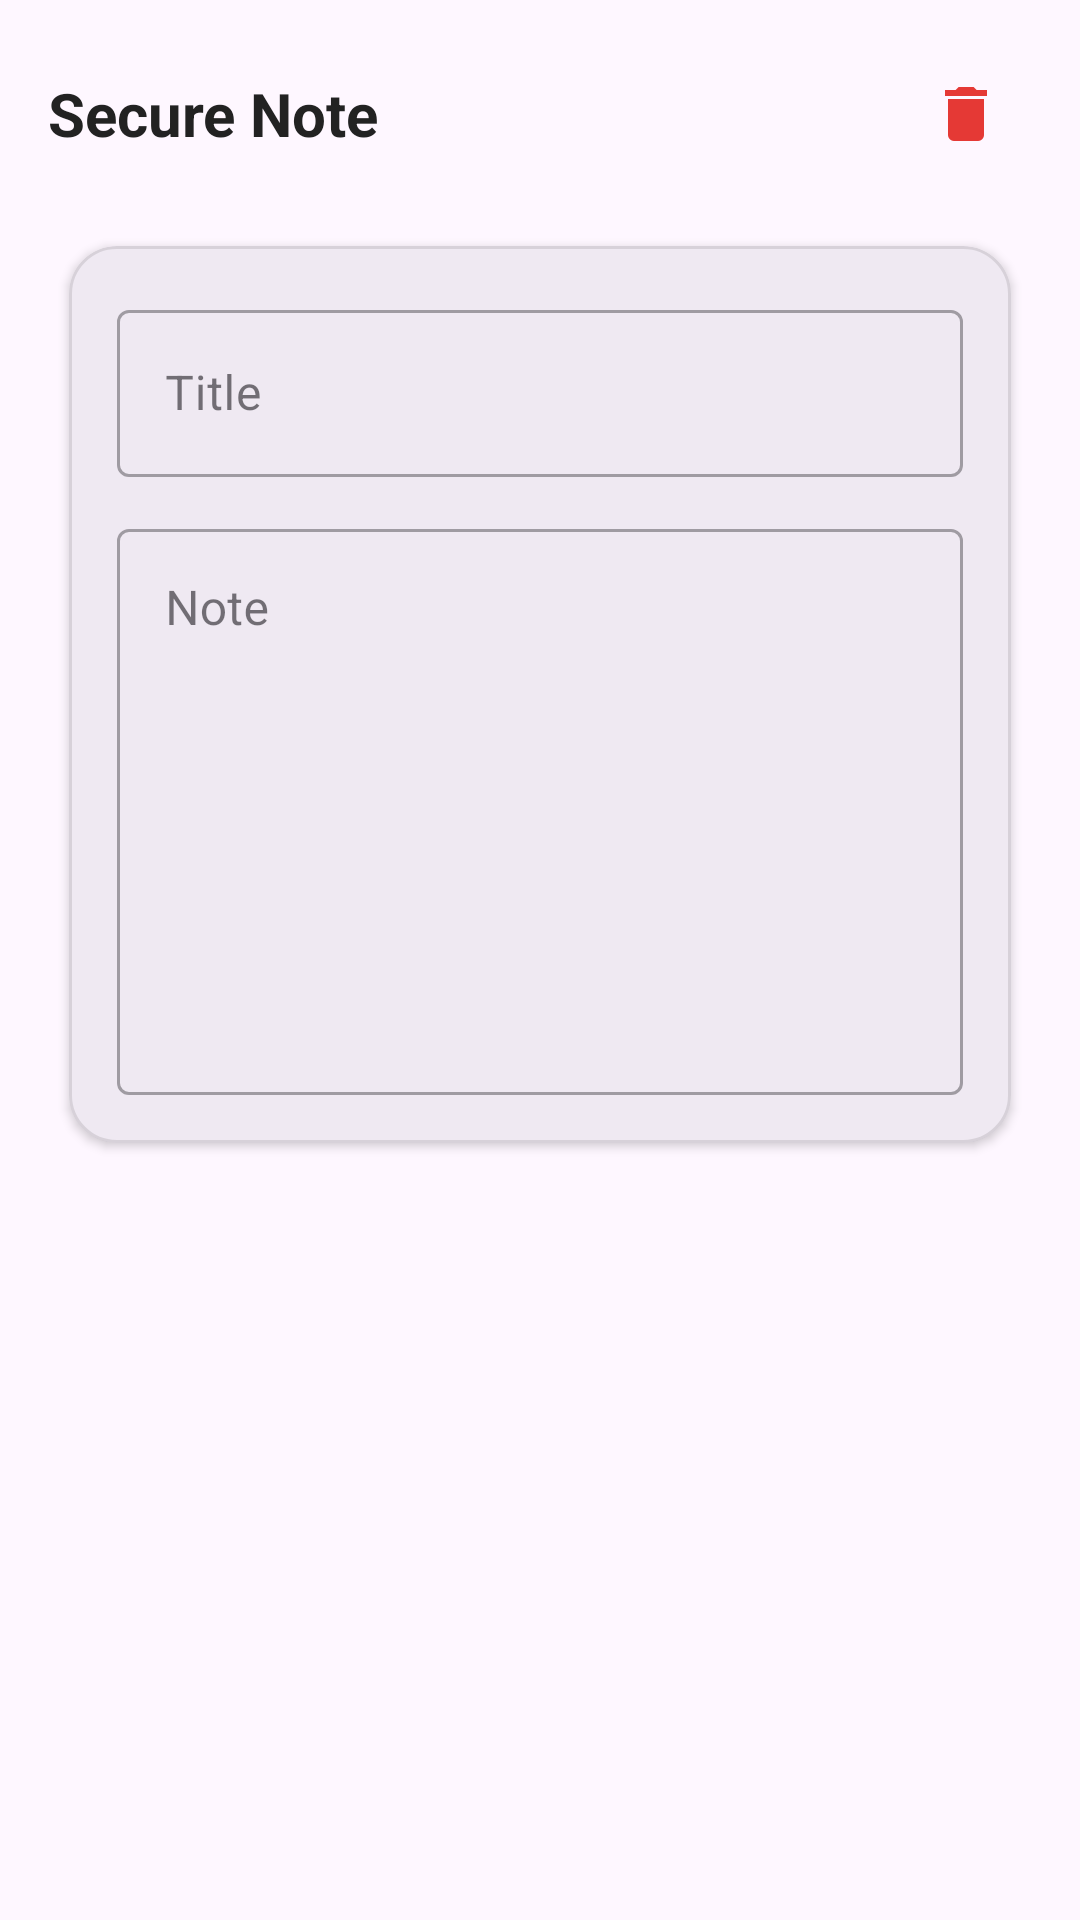

Screen size 1080w x 1920h. Icon name, then its center in pixels as (x,y):
Delete or Cancel: (966,114)
